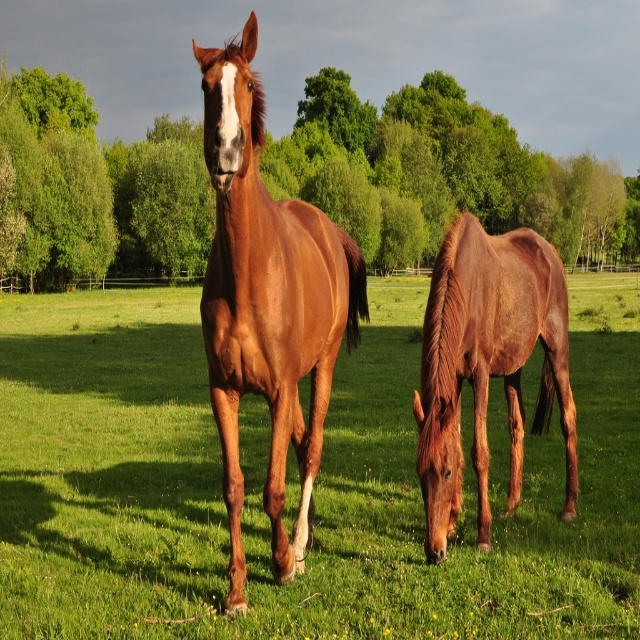Horse: (191, 8, 371, 626), (410, 209, 578, 566)
